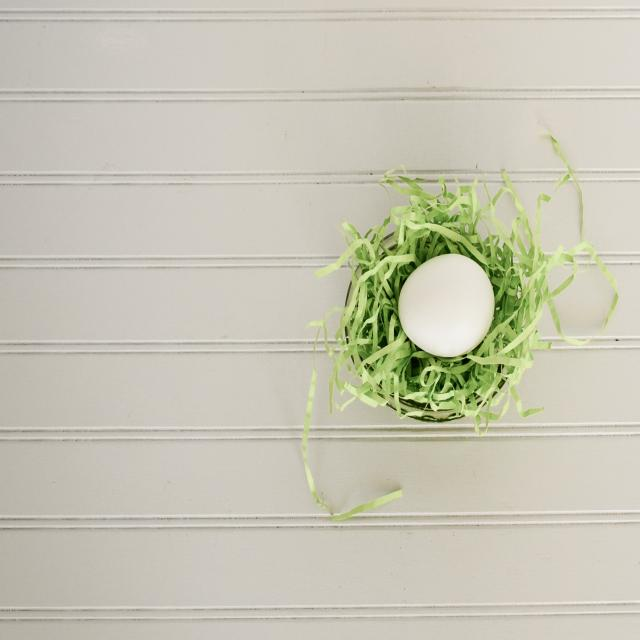egg: (388, 247, 507, 359)
